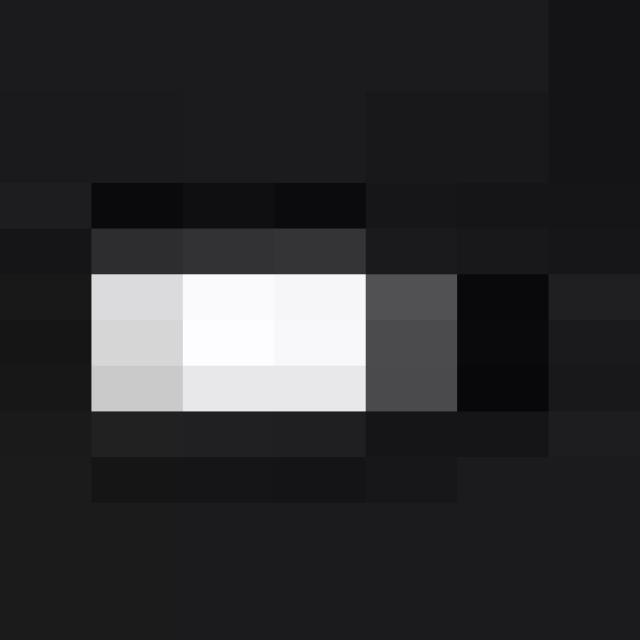.: (0, 175, 583, 503)
